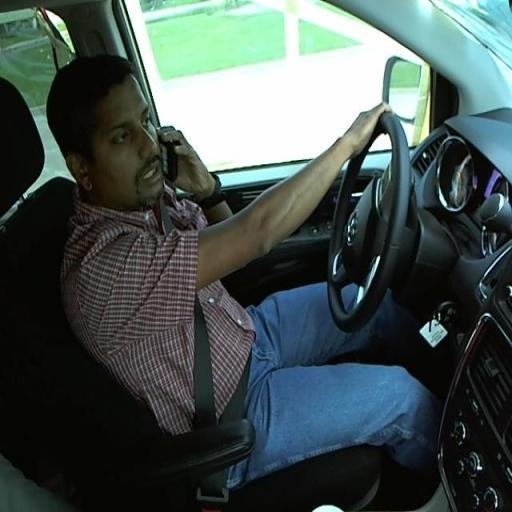talking_phone: (49, 72, 431, 390)
